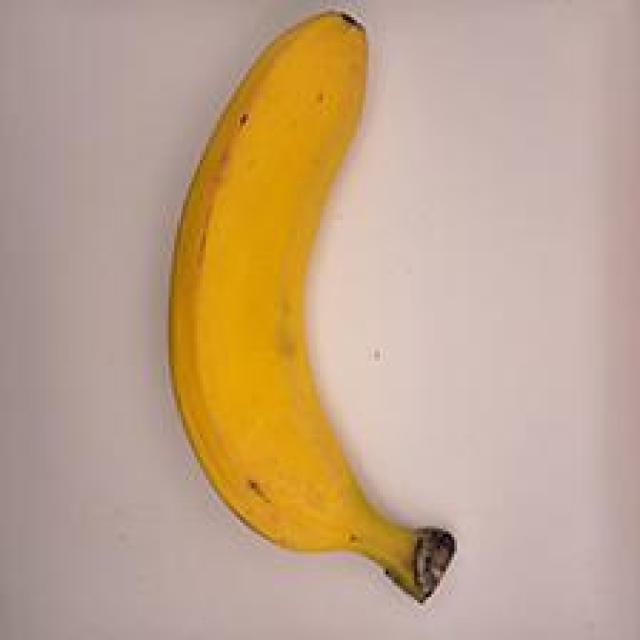ripe: (148, 0, 480, 618)
